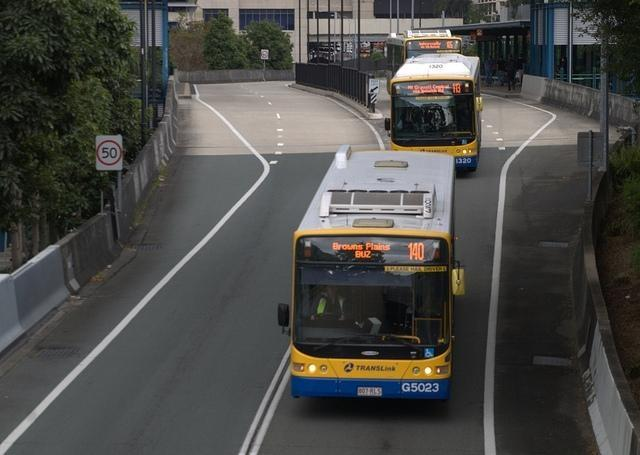bus: (278, 144, 466, 398), (388, 56, 482, 172), (385, 36, 459, 90)
